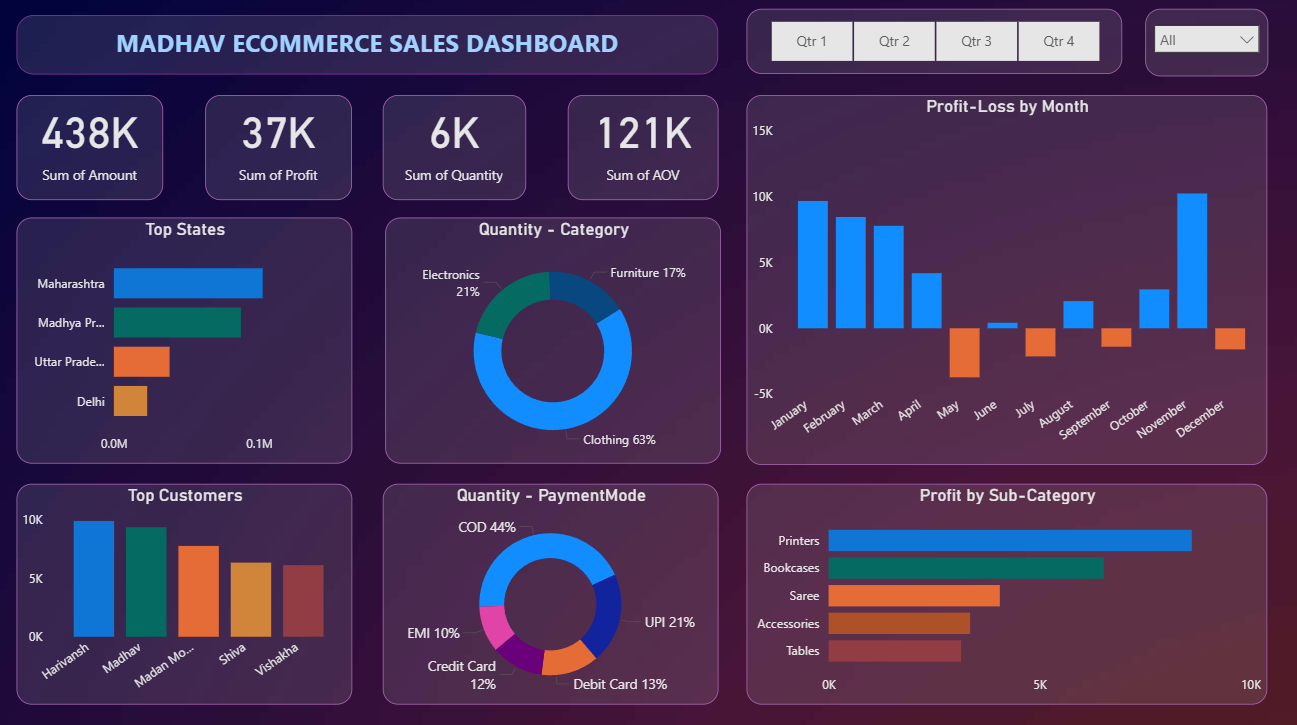

What the dashboard file says about the page in this screenshot:
{"tool":"powerbi","page":{"name":"Page 1","canvas":[1280,720],"ordinal":0},"visuals":[{"type":"columnChart","title":"Profit-Loss by Month","fields":{"Y":["Details (1).Profit"],"Category":["Orders (1).Order Date.Variation.Date Hierarchy.Month"]},"box":[733.7,97.6,511.2,362.9],"z":0},{"type":"textbox","box":[17.6,19.5,688.8,58.5],"z":1000},{"type":"barChart","title":"Profit by Sub-Category","fields":{"Y":["Details (1).Profit"],"Category":["Details (1).Sub-Category"]},"box":[733.7,480,511.2,216.6],"z":2000},{"type":"donutChart","title":"Quantity - Category","fields":{"Y":["Details (1).Quantity"],"Category":["Details (1).Category"]},"box":[378.5,218.5,329.8,242],"z":3000},{"type":"donutChart","title":"Quantity - PaymentMode","fields":{"Y":["Details (1).Quantity"],"Category":["Details (1).PaymentMode"]},"box":[376.6,480,329.8,216.6],"z":4000},{"type":"clusteredBarChart","title":"Top States","fields":{"Y":["Details (1).Amount"],"Category":["Orders (1).State"]},"box":[17.6,218.5,329.8,242],"z":5000},{"type":"columnChart","title":"Top Customers","fields":{"Category":["Orders (1).CustomerName"],"Y":["Details (1).Amount"]},"box":[17.6,480,329.8,216.6],"z":6000},{"type":"cardVisual","fields":{"Data":["Details (1).Amount"]},"box":[17.6,97.6,144.4,103.4],"z":7000},{"type":"cardVisual","fields":{"Data":["Details (1).Profit"]},"box":[202.9,97.6,144.4,103.4],"z":8000},{"type":"cardVisual","fields":{"Data":["Details (1).Quantity"]},"box":[376.6,97.6,140.5,103.4],"z":9000},{"type":"cardVisual","fields":{"Data":["Details (1).AOV"]},"box":[558,97.6,148.3,103.4],"z":10000},{"type":"slicer","fields":{"Values":["Orders (1).Order Date.Variation.Date Hierarchy.Quarter"]},"box":[733.7,13.7,368.8,64.4],"z":11000},{"type":"slicer","fields":{"Values":["Orders (1).State"]},"box":[1125,13.7,121,66.3],"z":12000}]}

Visuals, with their boxes in screenshot pixels (x1, y1, x2, y2), scaled from the page's 1280x720 canvas onto the 1297x725 screenshot:
"Profit-Loss by Month" columnChart: x1=743, y1=98, x2=1261, y2=464
textbox: x1=18, y1=20, x2=716, y2=79
"Profit by Sub-Category" barChart: x1=743, y1=483, x2=1261, y2=701
"Quantity - Category" donutChart: x1=384, y1=220, x2=718, y2=464
"Quantity - PaymentMode" donutChart: x1=382, y1=483, x2=716, y2=701
"Top States" clusteredBarChart: x1=18, y1=220, x2=352, y2=464
"Top Customers" columnChart: x1=18, y1=483, x2=352, y2=701
cardVisual - Details (1).Amount: x1=18, y1=98, x2=164, y2=202
cardVisual - Details (1).Profit: x1=206, y1=98, x2=352, y2=202
cardVisual - Details (1).Quantity: x1=382, y1=98, x2=524, y2=202
cardVisual - Details (1).AOV: x1=565, y1=98, x2=716, y2=202
slicer - Orders (1).Order Date.Variation.Date Hierarchy.Quarter: x1=743, y1=14, x2=1117, y2=79
slicer - Orders (1).State: x1=1140, y1=14, x2=1263, y2=81
